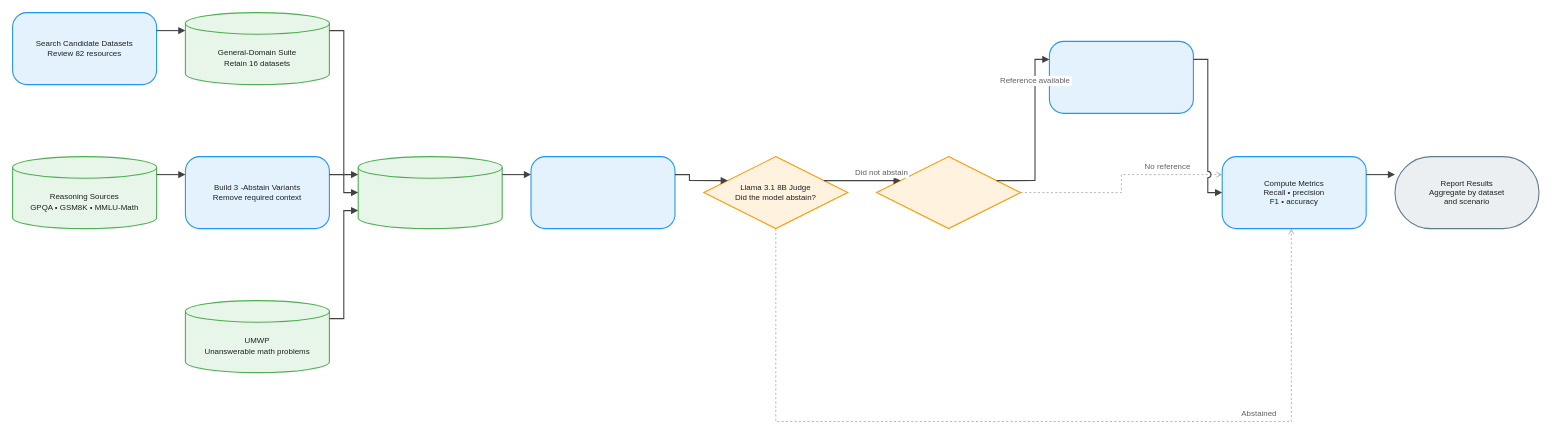
Image size: 1552x441. Some labels were removed from this diagram. Each missing label, with the centre of its shape:
"AbstentionBench 20 datasets • >35,000 questions" goes at (429,192).
"Correctness Judge Compare answer with reference" goes at (1121,77).
"Non-Abstaining Response Is a reference available?" goes at (948,192).
"Target-Model Response Question + generated answer" goes at (602,192).
